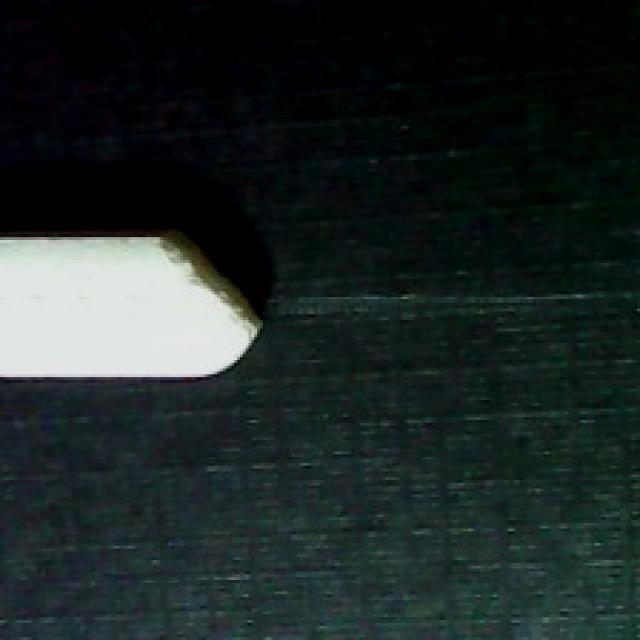defected: (0, 223, 286, 380)
